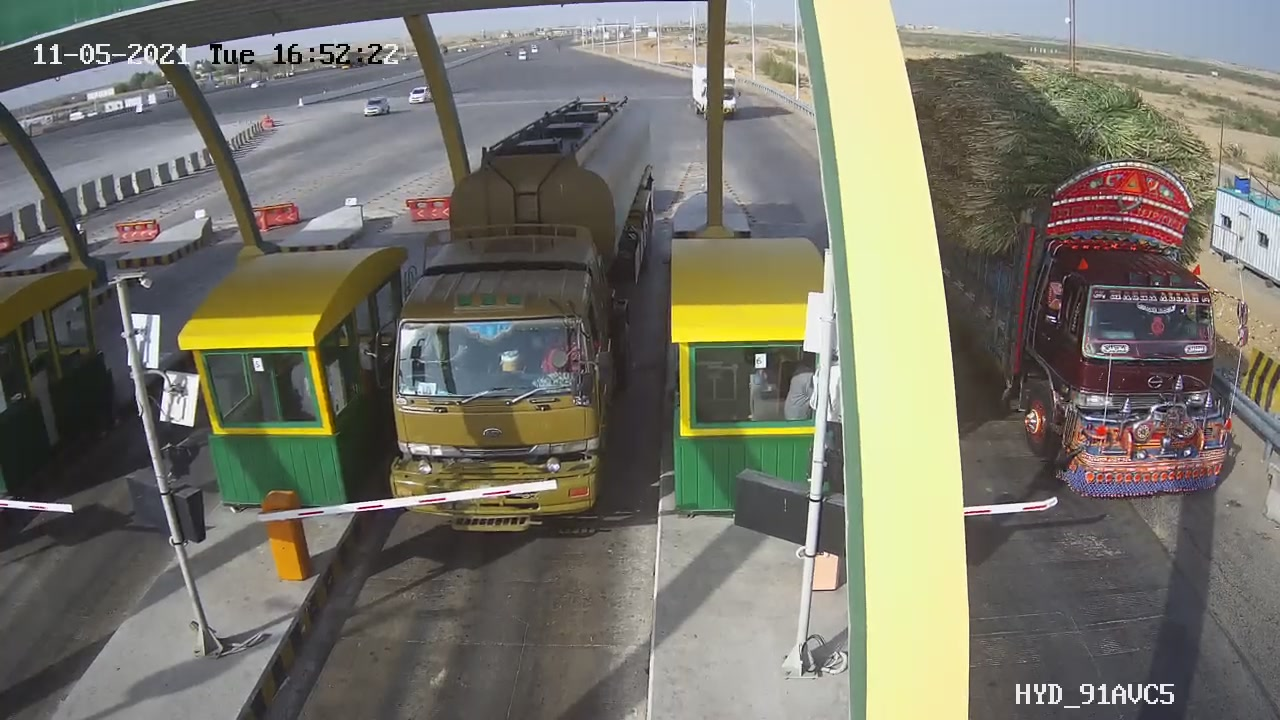F6: (341, 80, 679, 555)
